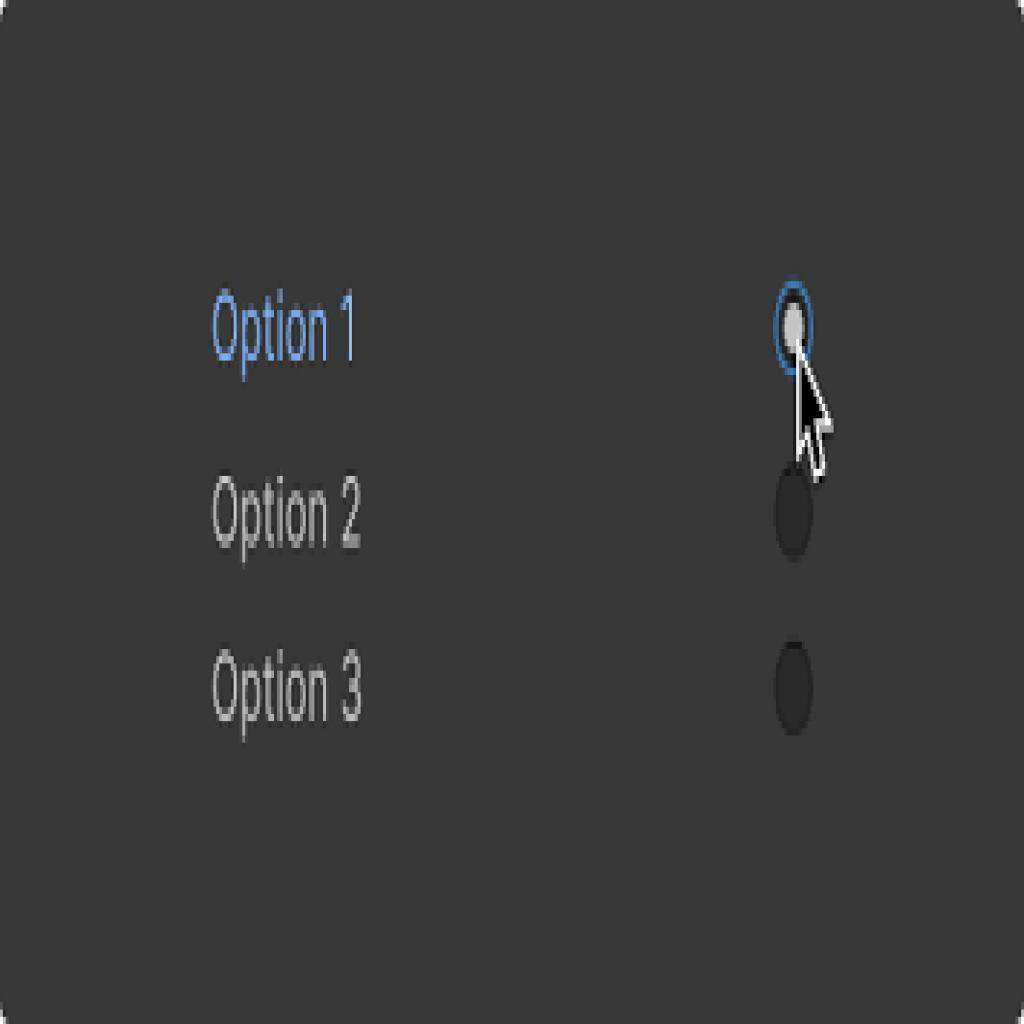radio: (767, 626, 819, 755), (767, 457, 823, 562), (773, 276, 812, 385)
